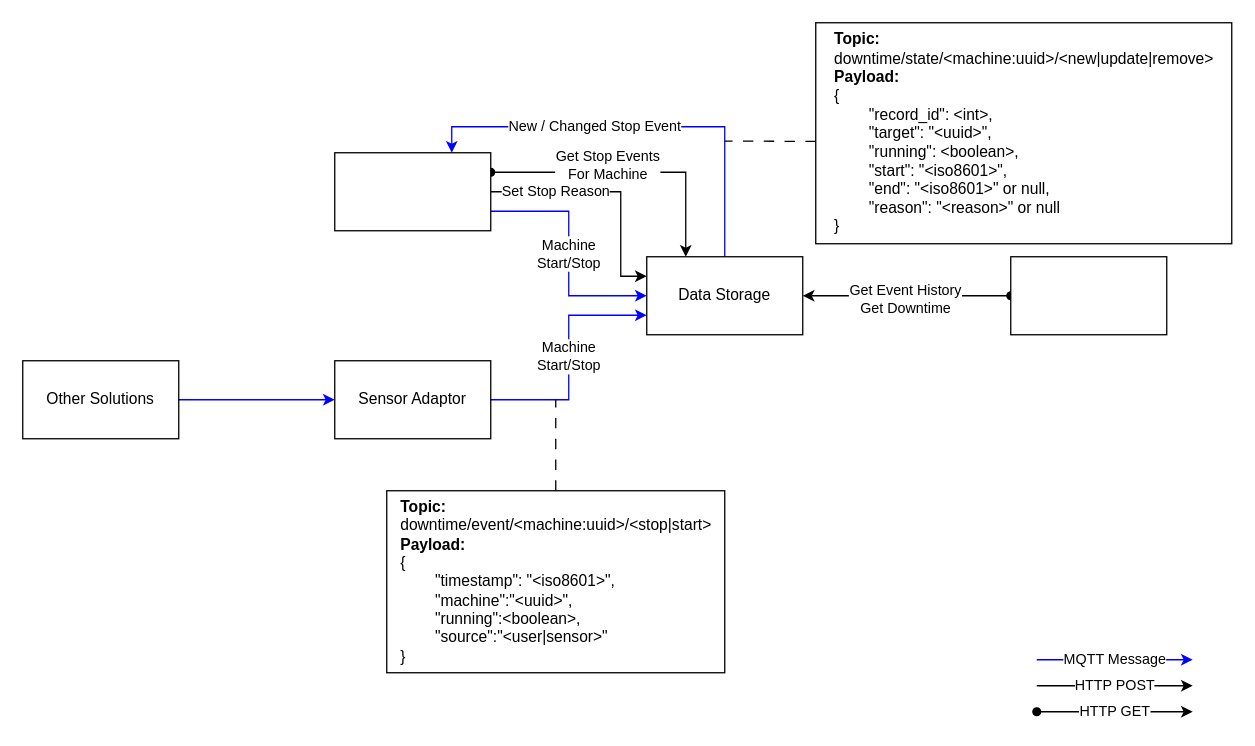
Image size: 1255x746. Some labels were removed from this diagram. Here are the shapes that lost their labels. From the top down, the box of each, then its label:
(333, 151, 491, 231): Operator Input
(1009, 255, 1167, 335): Dashboard
